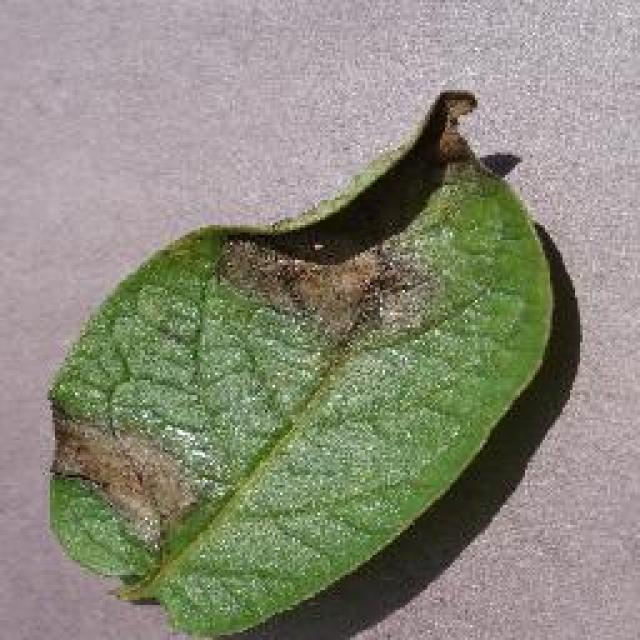late_blight: (40, 85, 560, 637)
